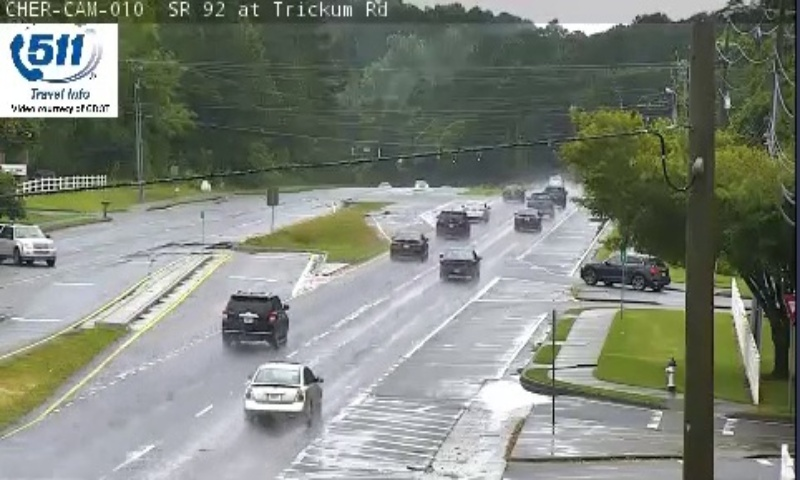car: (243, 362, 320, 413), (223, 292, 287, 342), (439, 247, 479, 277), (390, 232, 428, 261), (436, 209, 468, 238), (513, 207, 542, 229), (526, 194, 554, 214), (461, 198, 487, 218)
